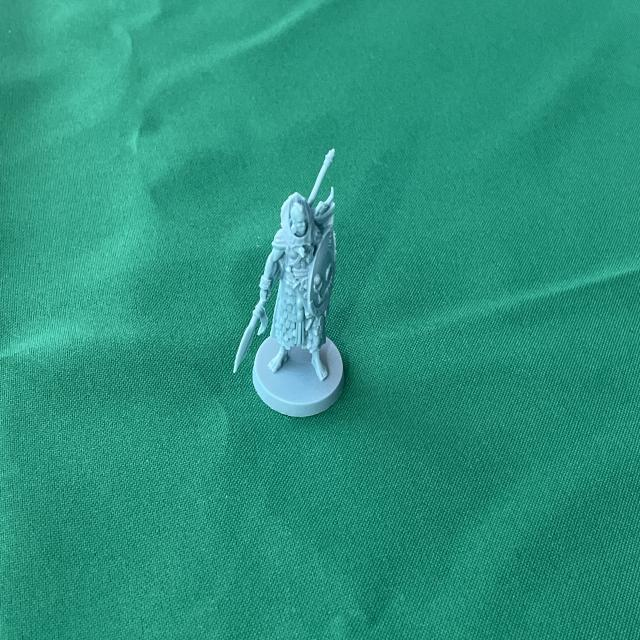isis_follower: (231, 144, 352, 420)
